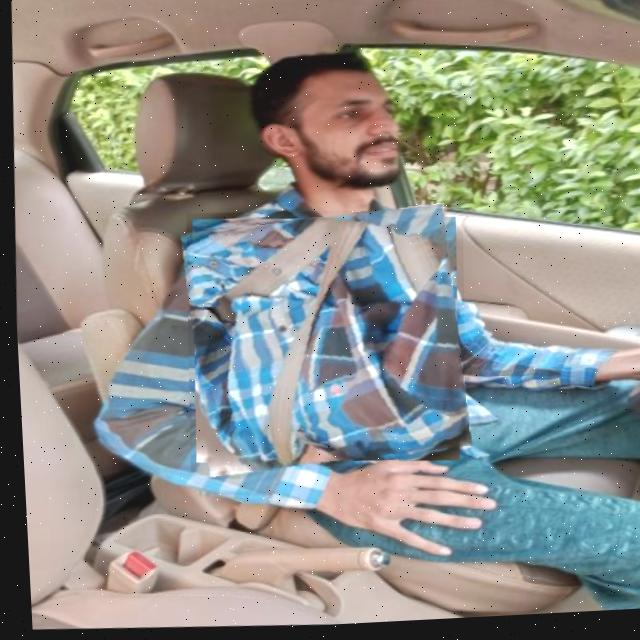seatbelt: (175, 204, 470, 482)
